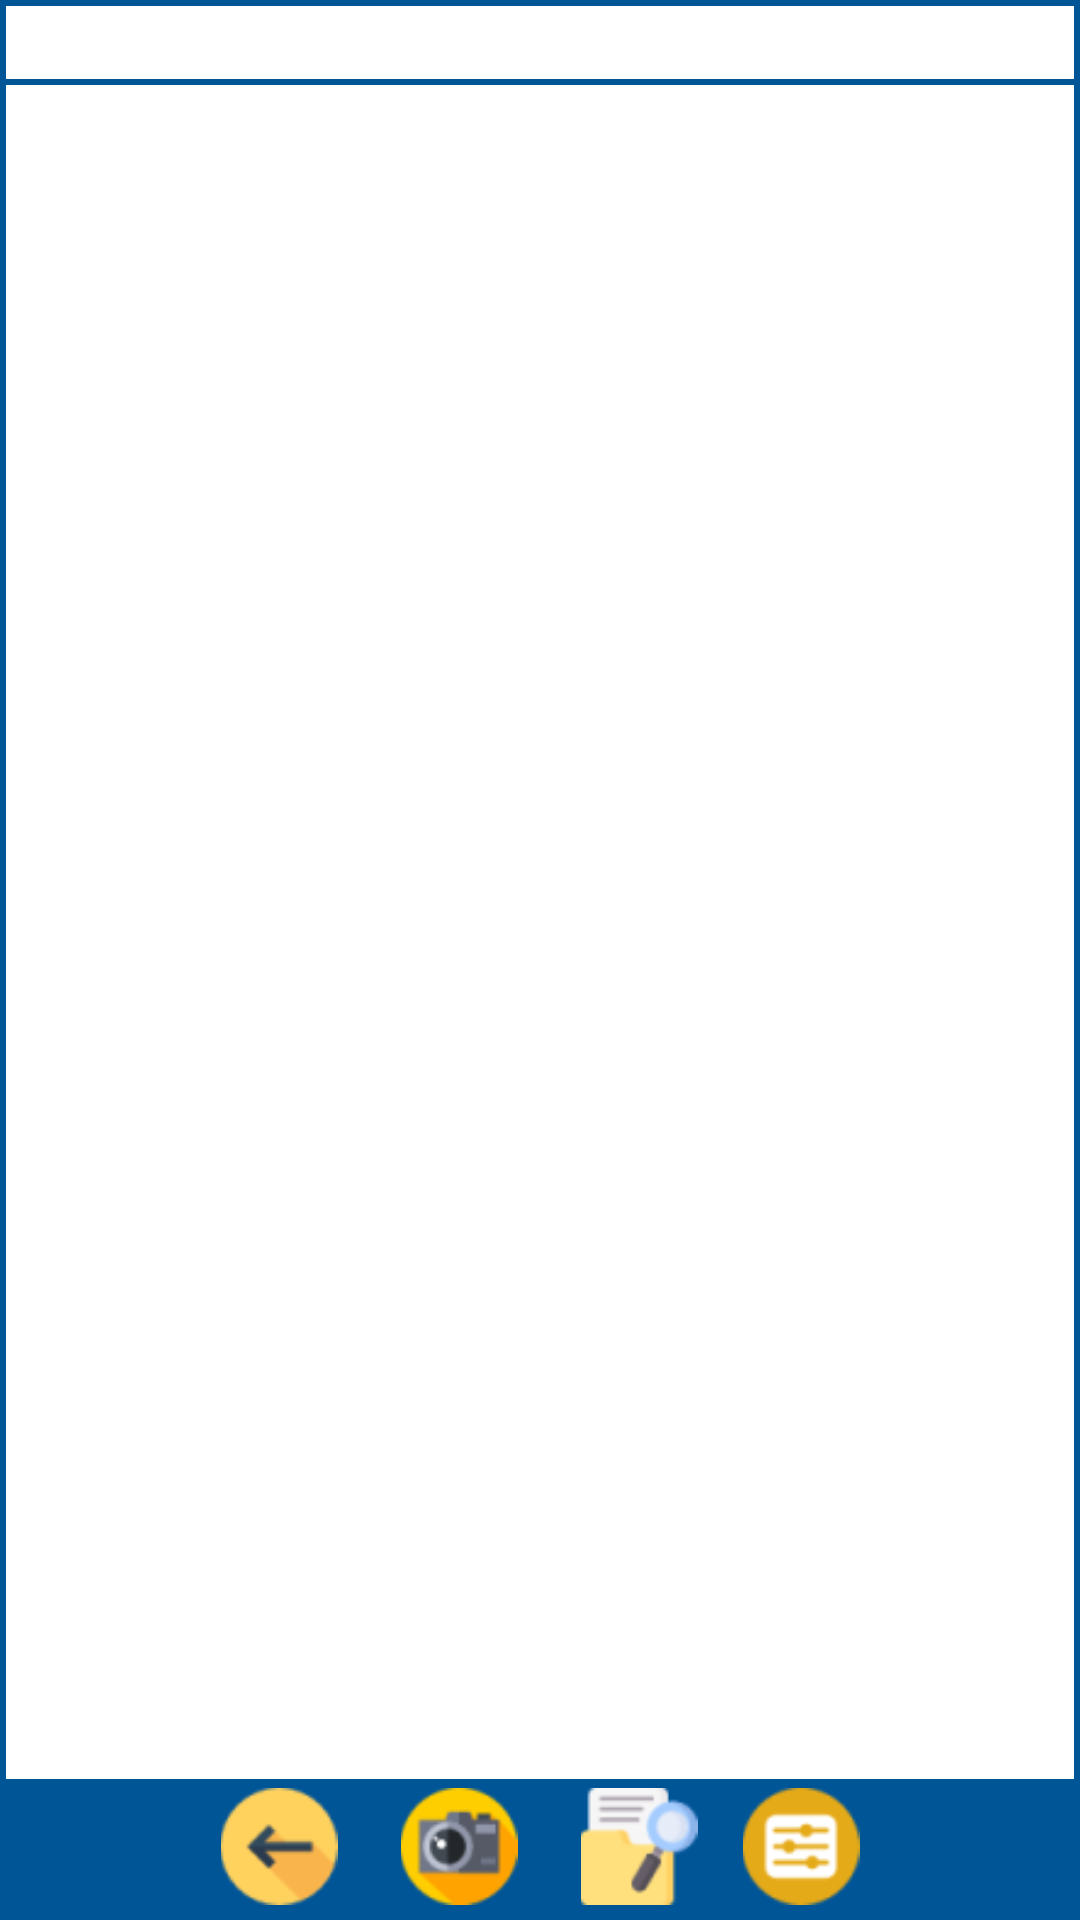

Where to tap for icons on this 1080*1920 app screen, as point (x, y):
back: point (279, 1846)
newphoto: point (459, 1846)
search: point (639, 1846)
settings: point (801, 1846)
